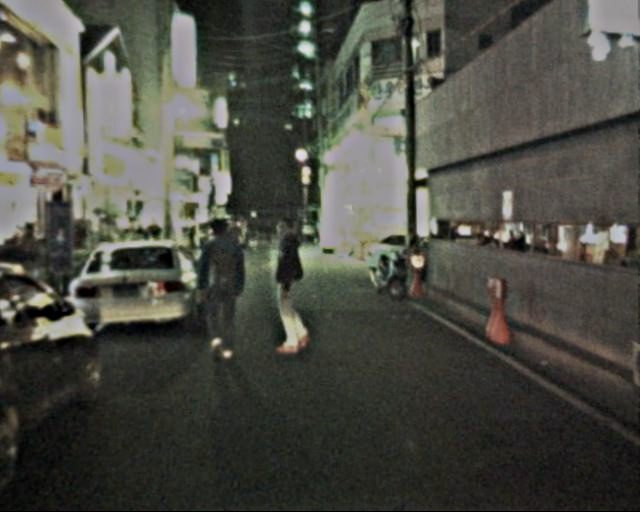person: (191, 219, 250, 359), (261, 215, 318, 355)
